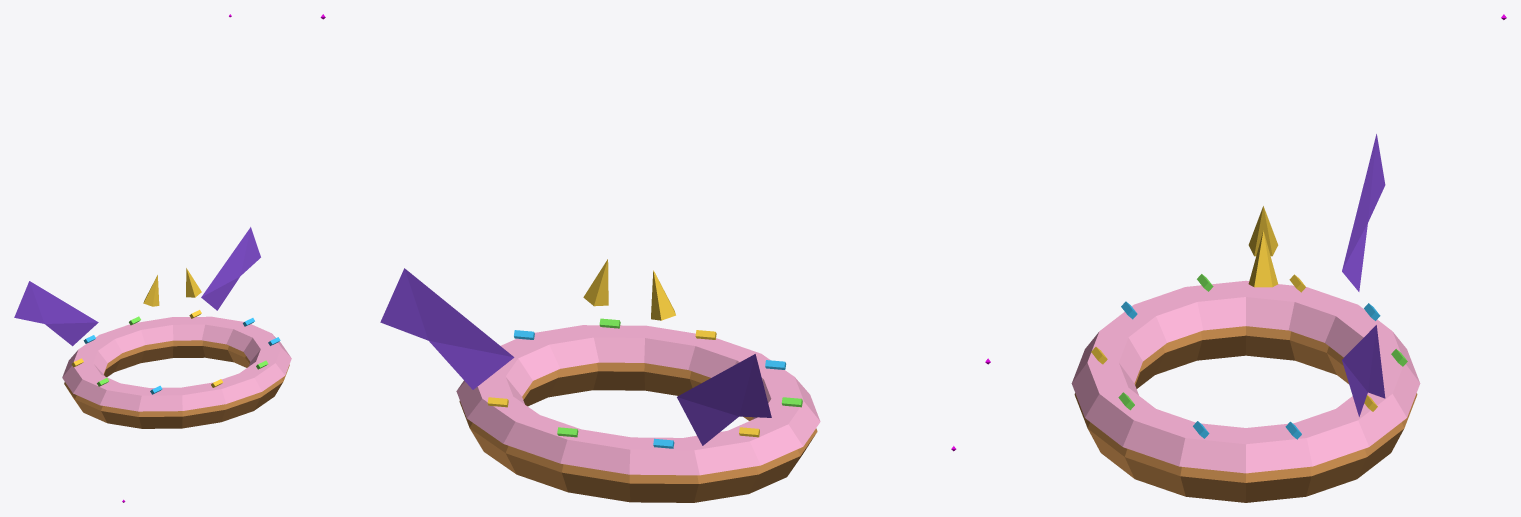
Rendered from acc_donut_dragon.fbx.
3 renders of one model, left to right at view 1: azimuth 30°, elevation 25°; view 2: azimuth 150°, elevation 25°; view 3: azimuth 270°, elevation 25°, orthographic. The views are drawn at different scales.
Visible parts, largest first — view 1: Icing, Donut, Wings, Sprinkles, Horns; view 2: Icing, Donut, Wings, Sprinkles, Horns; view 3: Icing, Donut, Wings, Horns, Sprinkles.
Boxes of the visible parts, box(x1,y1,x2,y2) form: Icing: box(62, 316, 291, 411); Donut: box(64, 340, 289, 428); Wings: box(14, 227, 260, 346); Sprinkles: box(71, 310, 280, 394); Horns: box(143, 268, 201, 306); Icing: box(456, 325, 820, 475); Donut: box(459, 362, 817, 502); Wings: box(380, 268, 771, 445); Sprinkles: box(487, 318, 802, 448); Horns: box(583, 259, 675, 320); Icing: box(1071, 280, 1420, 473); Donut: box(1074, 326, 1417, 502); Wings: box(1342, 134, 1385, 416); Horns: box(1248, 206, 1278, 287); Sprinkles: box(1091, 274, 1407, 439).
Size of the model in its own units: 2.99 by 3.6 by 2.99.
